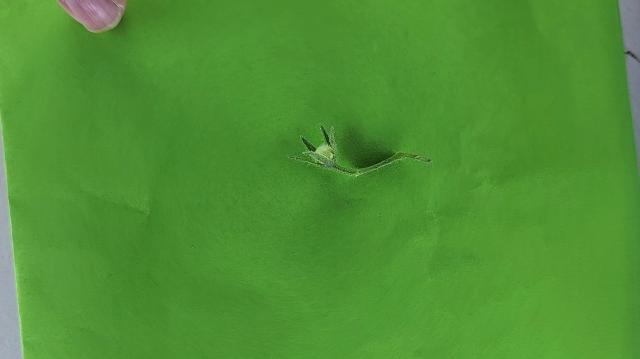Fruit Bud: (299, 125, 339, 170)
